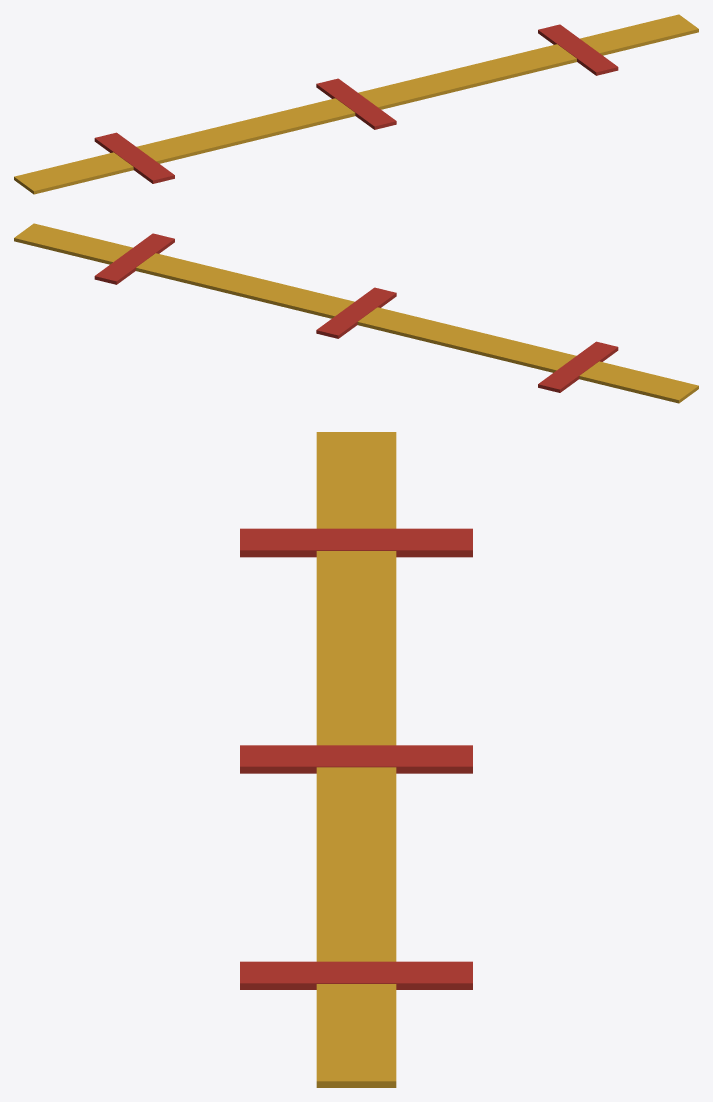
The model's file is route.breach_line.glb.
3 renders of one model, top to bottom at view 1: azimuth 30°, elevation 25°; view 2: azimuth 150°, elevation 25°; view 3: azimuth 270°, elevation 25°, orthographic. The views are drawn at different scales.
Visible parts, largest first — view 1: breach_line, red_tick_c, red_tick_a, red_tick_b; view 2: breach_line, red_tick_c, red_tick_a, red_tick_b; view 3: breach_line, red_tick_a, red_tick_b, red_tick_c.
Part boxes in pixels (x1,y1,x2,y2): breach_line: (14, 14, 698, 194); red_tick_c: (538, 24, 618, 75); red_tick_a: (94, 132, 174, 183); red_tick_b: (316, 78, 396, 129); breach_line: (14, 223, 698, 403); red_tick_c: (94, 233, 174, 284); red_tick_a: (538, 341, 618, 392); red_tick_b: (316, 287, 396, 338); breach_line: (316, 432, 396, 1087); red_tick_a: (240, 528, 472, 557); red_tick_b: (240, 745, 472, 773); red_tick_c: (240, 961, 472, 989).
Bounding box in the file's own units: 5.4 × 0.0285 × 0.82.
